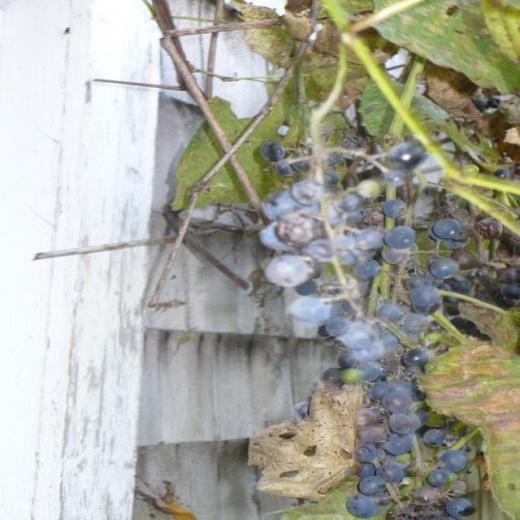Orange: (260, 127, 519, 520)
